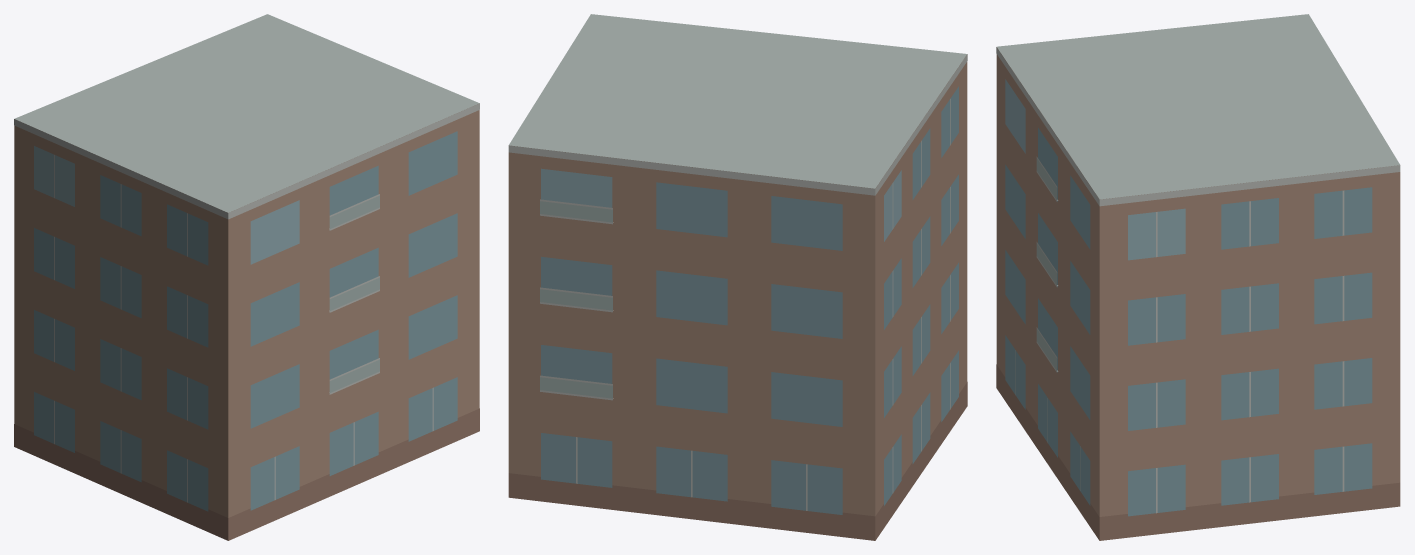
The model's file is survey-upis-32646910.glb.
3 views of the same model, side by side, from view 1: azimuth 30°, elevation 25°; view 2: azimuth 150°, elevation 25°; view 3: azimuth 270°, elevation 25° (orthographic). The views are drawn at different scales.
Parts seen in each view (by area): view 1: survey-upis-32646910.tmp; view 2: survey-upis-32646910.tmp; view 3: survey-upis-32646910.tmp.
Part boxes in pixels (<box>): survey-upis-32646910.tmp: <box>14,14,479,540</box>; survey-upis-32646910.tmp: <box>508,14,967,540</box>; survey-upis-32646910.tmp: <box>996,14,1400,540</box>.
Bounding box in the file's own units: 14.23 × 12.2 × 13.09.
